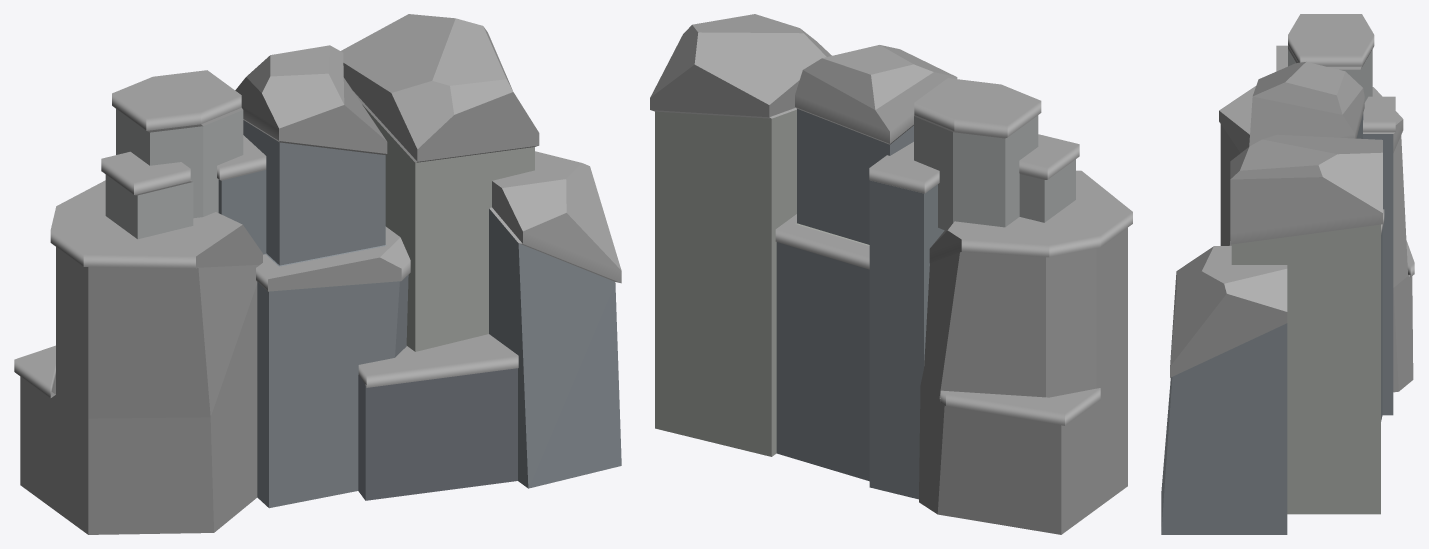
The model's file is Rock_Wall_06.fbx.
The picture shows the model from 3 angles, left to right: view 1: azimuth 30°, elevation 25°; view 2: azimuth 150°, elevation 25°; view 3: azimuth 270°, elevation 25°; orthographic projection. The views are drawn at different scales.
Visible parts, largest first — view 1: Rock_Wall_06; view 2: Rock_Wall_06; view 3: Rock_Wall_06.
Part boxes in pixels (x1,y1,x2,y2): Rock_Wall_06: (14,14,621,534); Rock_Wall_06: (650,14,1132,534); Rock_Wall_06: (1161,14,1414,534).
Bounding box in the file's own units: 692 × 545 × 353.
